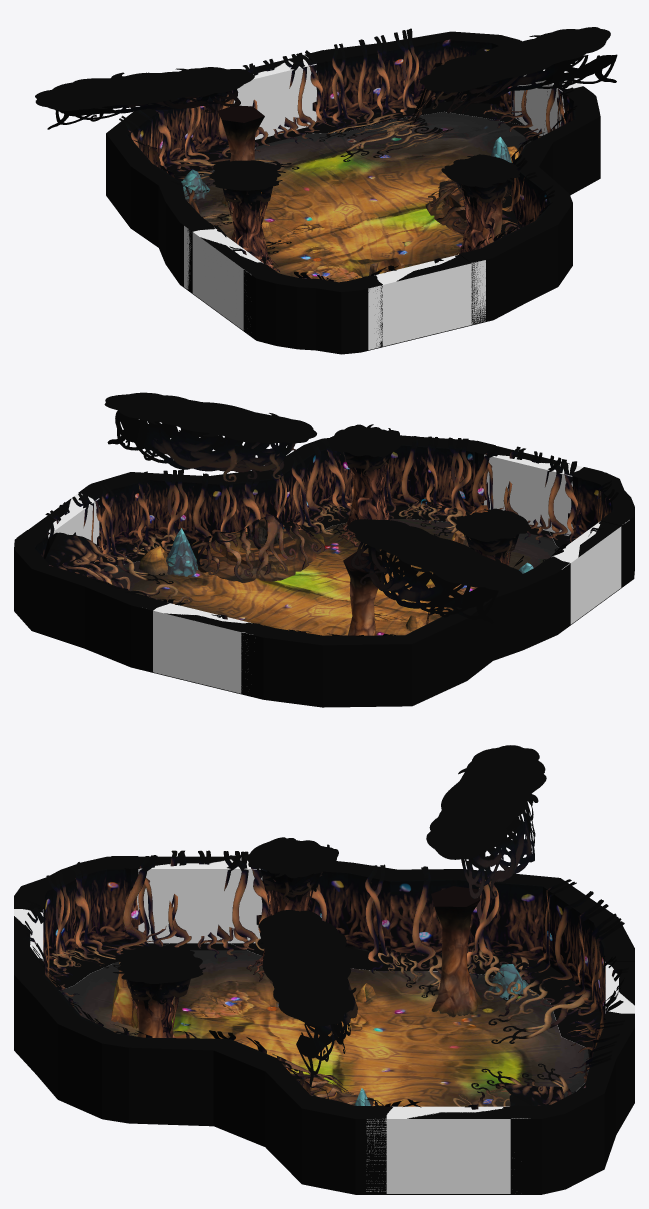
File: Dungeon_021_BossRoom.fbx
3 views of the same model, one above another, from view 1: azimuth 30°, elevation 25°; view 2: azimuth 150°, elevation 25°; view 3: azimuth 270°, elevation 25° (orthographic). The views are drawn at different scales.
Parts seen in each view (by area): view 1: Dun_021_Room_003_wall, Dun_021_Room_003_ground, Dungeon_021_Object_025, DoorWay_NavMask (1) (×2), Dungeon_021_Object_021, DoorWay_NavMask (×4), un_021_Door_002_Object1 (×2), un_021_Door_002 (×3), Dungeon_021_Object_024, Dungeon_021_Object_010, Dungeon_021_Object_012, Dungeon_011_Object_010 (×2) (+8 smaller); view 2: Dun_021_Room_003_wall, Dungeon_021_Object_025, Dun_021_Room_003_ground, Dungeon_021_Object_021, DoorWay_NavMask (1) (×2), DoorWay_NavMask (×3), un_021_Door_002 (×4), un_021_Door_002_Object1 (×2), Dungeon_021_Object_015, Dungeon_021_Object_016, Dungeon_021_Object_024, Dungeon_021_Object_012 (+7 smaller); view 3: Dun_021_Room_003_wall, Dun_021_Room_003_ground, Dungeon_021_Object_025, Dungeon_021_Object_021, DoorWay_NavMask (1), DoorWay_NavMask (×3), un_021_Door_002_Object1 (×3), un_021_Door_002 (×4), Dungeon_011_Object_010 (×2), Dun_011_Room_003_shadow, Dungeon_021_Object_022, Dungeon_021_Object_012 (+8 smaller).
Part boxes in pixels (x1,y1,x2,y2): Dun_021_Room_003_wall: [106, 31, 600, 354]; Dun_021_Room_003_ground: [186, 112, 531, 282]; Dungeon_021_Object_025: [35, 27, 617, 129]; DoorWay_NavMask (1) (×2): [184, 226, 485, 349]; Dungeon_021_Object_021: [119, 28, 576, 281]; DoorWay_NavMask (×4): [193, 55, 581, 284]; un_021_Door_002_Object1 (×2): [218, 50, 573, 157]; un_021_Door_002 (×3): [182, 50, 489, 346]; Dungeon_021_Object_024: [319, 62, 501, 161]; Dungeon_021_Object_010: [441, 154, 519, 203]; Dungeon_021_Object_012: [209, 160, 285, 206]; Dungeon_011_Object_010 (×2): [217, 105, 511, 244]; Dun_021_Room_003_wall: [14, 435, 634, 707]; Dungeon_021_Object_025: [104, 392, 523, 624]; Dun_021_Room_003_ground: [104, 519, 560, 635]; Dungeon_021_Object_021: [73, 436, 618, 636]; DoorWay_NavMask (1) (×2): [153, 520, 629, 693]; DoorWay_NavMask (×3): [48, 454, 582, 623]; un_021_Door_002 (×4): [17, 440, 631, 694]; un_021_Door_002_Object1 (×2): [44, 445, 582, 562]; Dungeon_021_Object_015: [192, 518, 324, 582]; Dungeon_021_Object_016: [190, 514, 325, 580]; Dungeon_021_Object_024: [43, 532, 192, 603]; Dungeon_021_Object_012: [455, 508, 531, 557]; Dun_021_Room_003_wall: [14, 856, 634, 1194]; Dun_021_Room_003_ground: [60, 950, 588, 1106]; Dungeon_021_Object_025: [257, 745, 546, 1087]; Dungeon_021_Object_021: [40, 856, 624, 1105]; DoorWay_NavMask (1): [366, 1110, 527, 1193]; DoorWay_NavMask (×3): [14, 859, 509, 1118]; un_021_Door_002_Object1 (×3): [20, 850, 628, 1082]; un_021_Door_002 (×4): [14, 856, 634, 1194]; Dungeon_011_Object_010 (×2): [132, 886, 482, 1037]; Dun_011_Room_003_shadow: [46, 943, 601, 1091]; Dungeon_021_Object_022: [49, 938, 591, 1043]; Dungeon_021_Object_012: [247, 837, 338, 902].
Size of what is drawn, in the model's own units: 17.57 by 4.55 by 15.
